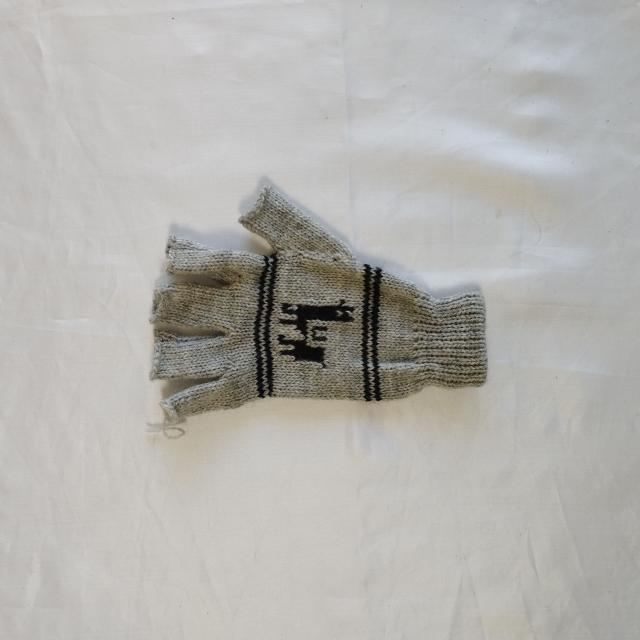Guante: (148, 182, 488, 432)
